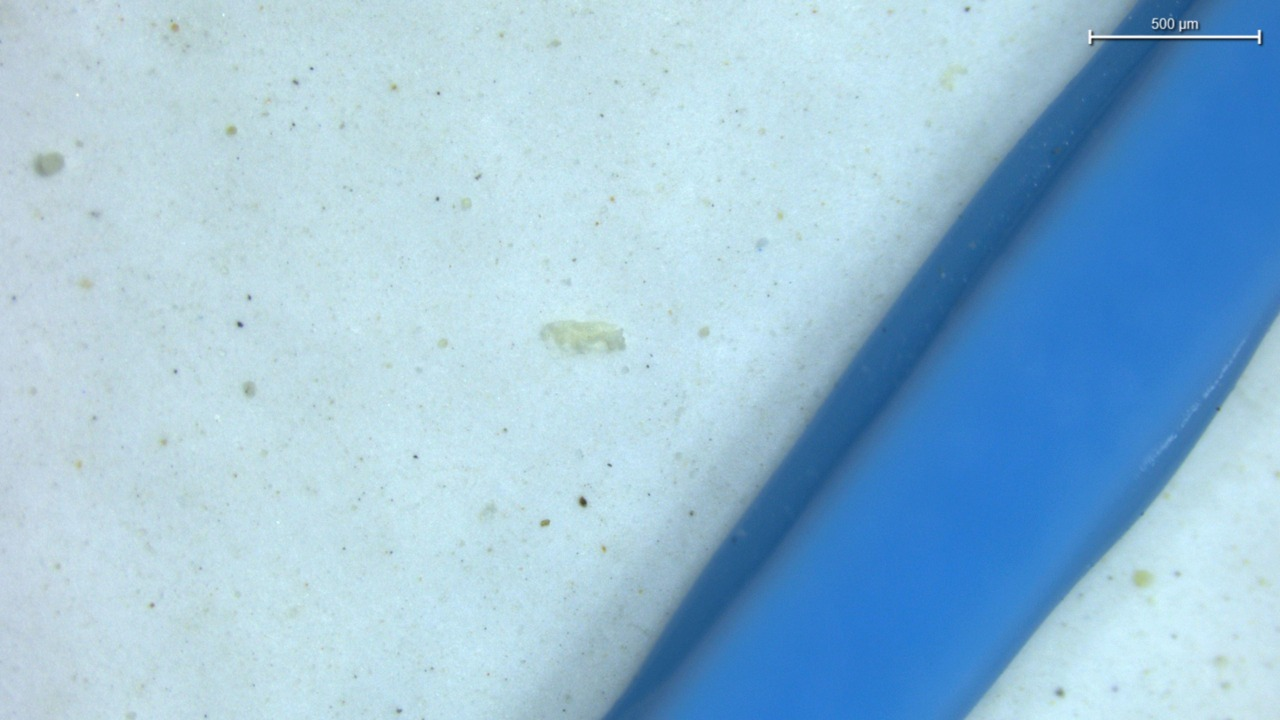microplastic_fragment: (540, 319, 625, 353)
